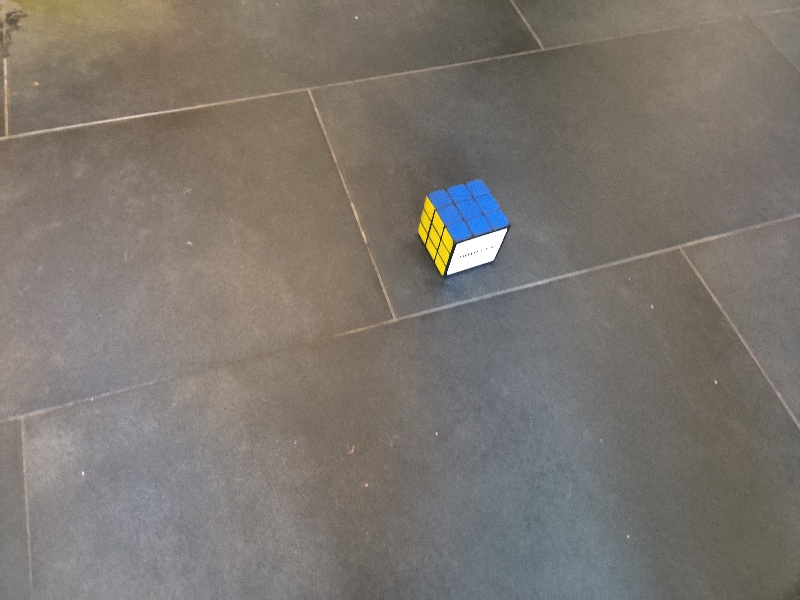rubik: (417, 177, 510, 277)
